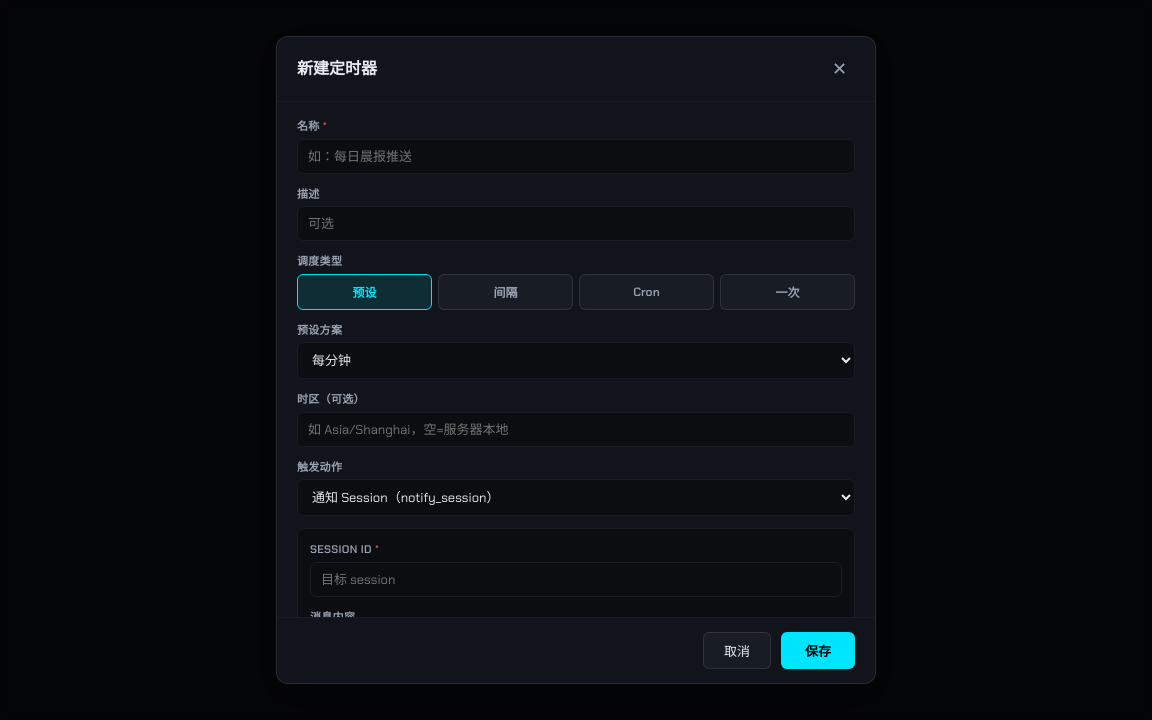
Scenario: CronForm — 调度类型切换 › 切到 interval 显示 interval 输入
Click the button with class "seg-btn" showing "间隔" at (506, 292), box [438,274,573,310]
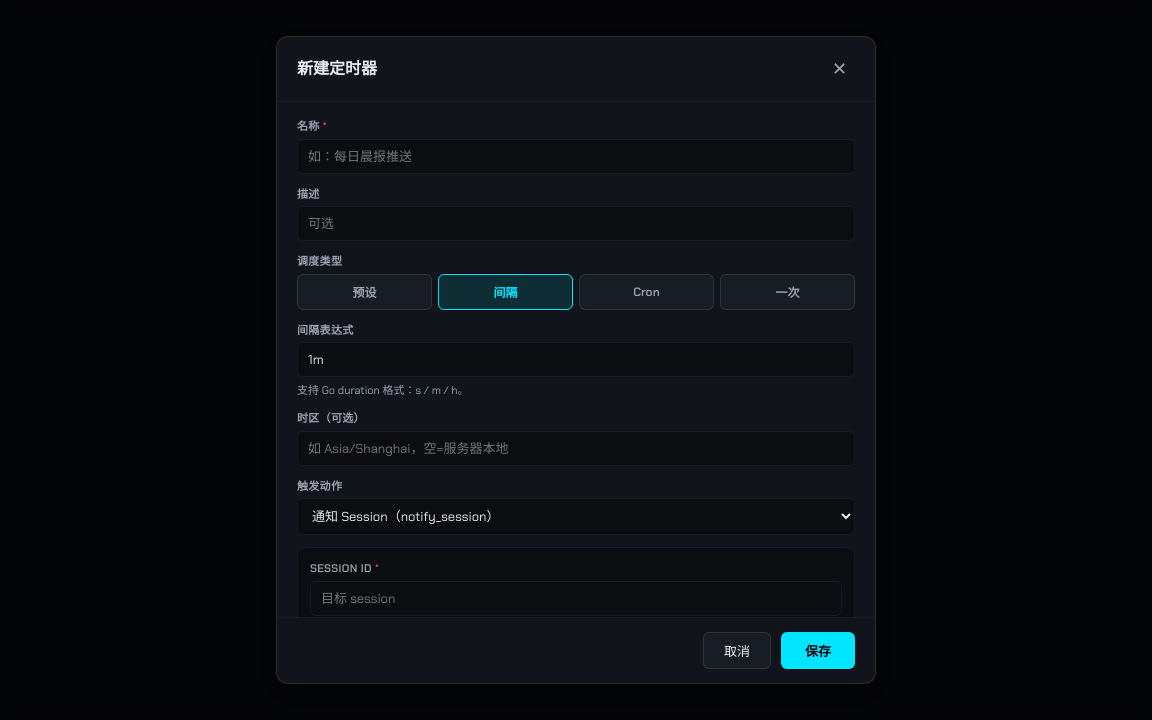
Now the field with id "cron-interval" is shown, box [297,342,855,377]
